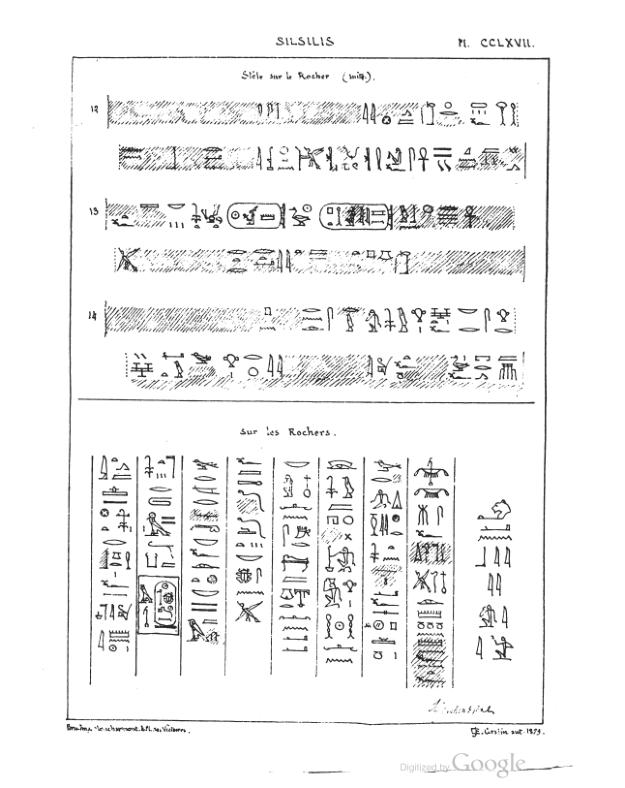circle: (314, 201, 397, 233), (225, 200, 291, 231), (151, 579, 178, 631)
